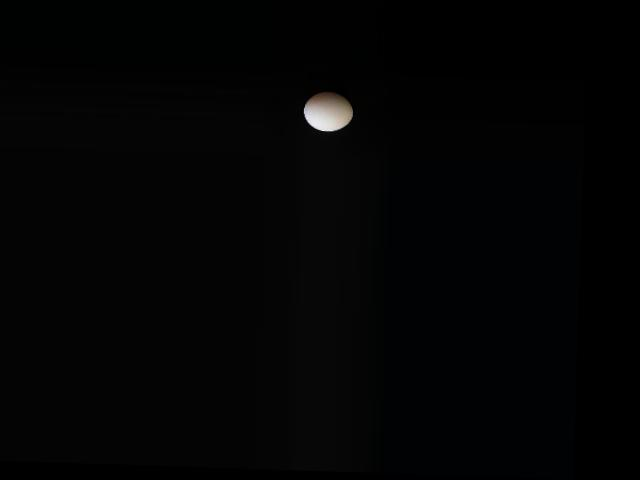egg: (305, 90, 354, 132)
